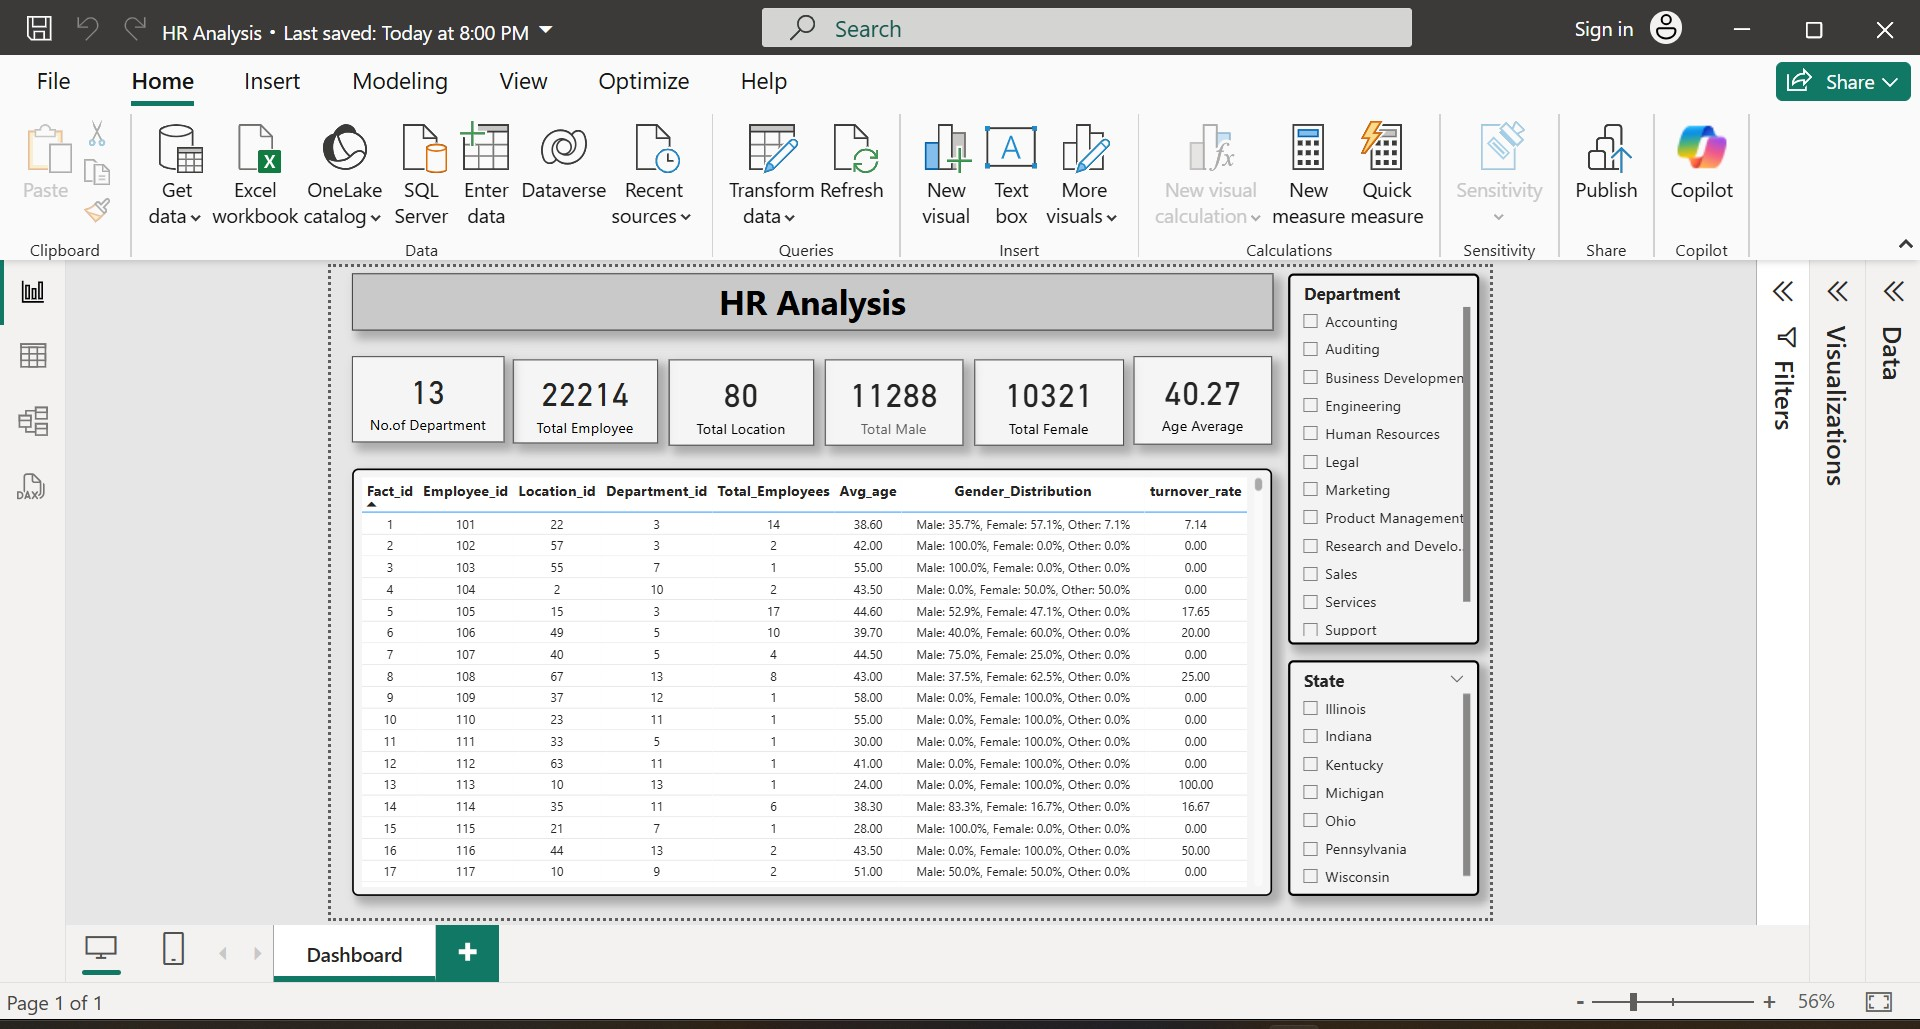

The dashboard page shown, as its layout file describes it:
{"tool":"powerbi","page":{"name":"Dashboard","canvas":[1280,720],"ordinal":0},"visuals":[{"type":"tableEx","fields":{"Values":["FactEmployee.fact_id","FactEmployee.employee_id","FactEmployee.location_id","FactEmployee.department_id","FactEmployee.total_employees","FactEmployee.avg_age","FactEmployee.gender_distribution","FactEmployee.turnover_rate"]},"box":[23.3,222.5,1015.7,472],"z":0},{"type":"textbox","box":[23.7,7.1,1017.3,62.8],"z":1000},{"type":"card","fields":{"Values":["DimEmployee.Total Employee"]},"box":[200.1,101.9,159.9,92.4],"z":2000},{"type":"card","fields":{"Values":["DimDepartment.No.of Department"]},"box":[22.5,99.5,168.2,94.7],"z":3000},{"type":"card","fields":{"Values":["DimLocation.Total Location"]},"box":[373.1,101.9,159.9,94.7],"z":4000},{"type":"card","fields":{"Values":["DimEmployee.Total Female"]},"box":[710.6,101.9,164.6,94.7],"z":5000},{"type":"card","fields":{"Values":["DimEmployee.Total Male"]},"box":[546,101.9,152.8,94.7],"z":6000},{"type":"slicer","fields":{"Values":["DimDepartment.department"]},"box":[1056.4,7.1,210.8,409.8],"z":7000},{"type":"slicer","fields":{"Values":["DimLocation.location_state"]},"box":[1056.4,433.5,210.8,260.5],"z":8000},{"type":"card","fields":{"Values":["Avg(FactEmployee.avg_age)"]},"box":[887,99.5,152.8,97.1],"z":9000}]}

Visuals, with their boxes on the page's 1280x720 design canvas (x1, y1, x2, y2). These are canvas units, not pixel positions in the 1920x1029 screenshot, which may show the page scaled, cropped or inside an application window:
tableEx - FactEmployee.fact_id x FactEmployee.employee_id: region(23, 222, 1039, 694)
textbox: region(24, 7, 1041, 70)
card - DimEmployee.Total Employee: region(200, 102, 360, 194)
card - DimDepartment.No.of Department: region(22, 100, 191, 194)
card - DimLocation.Total Location: region(373, 102, 533, 197)
card - DimEmployee.Total Female: region(711, 102, 875, 197)
card - DimEmployee.Total Male: region(546, 102, 699, 197)
slicer - DimDepartment.department: region(1056, 7, 1267, 417)
slicer - DimLocation.location_state: region(1056, 434, 1267, 694)
card - Avg(FactEmployee.avg_age): region(887, 100, 1040, 197)
